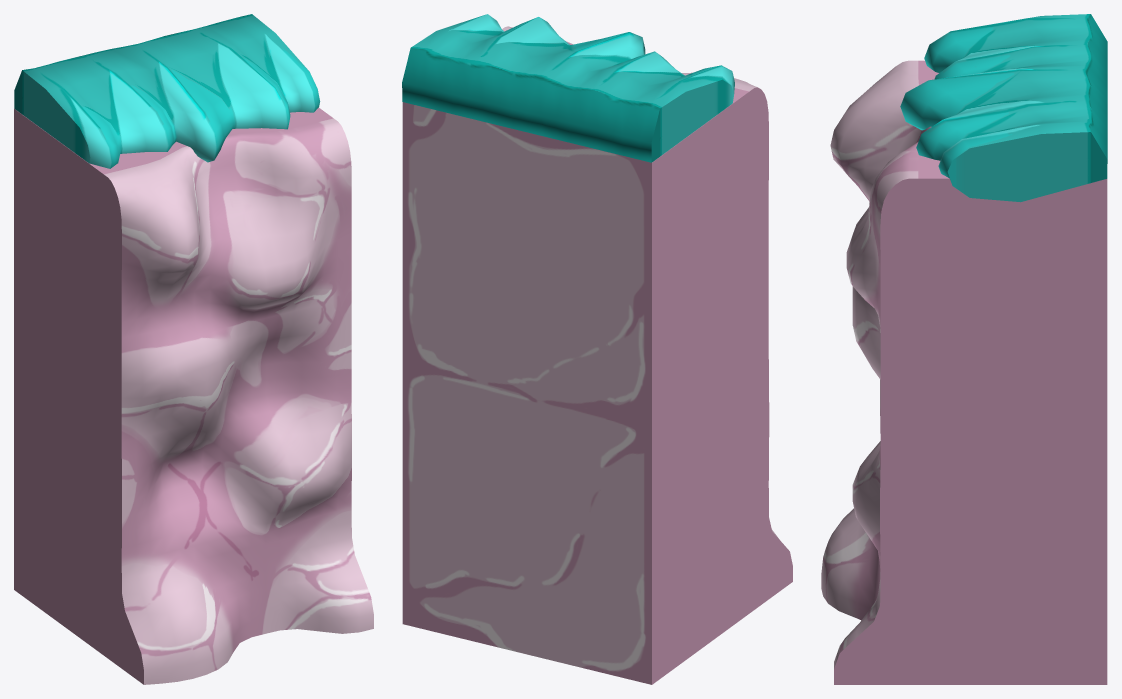
File: S1_InF_Wall(1)_001.fbx
3 renders of one model, left to right at view 1: azimuth 30°, elevation 25°; view 2: azimuth 150°, elevation 25°; view 3: azimuth 270°, elevation 25°, orthographic. The views are drawn at different scales.
Visible parts, largest first — view 1: group50_FieldAroundGlass_04; view 2: group50_FieldAroundGlass_04; view 3: group50_FieldAroundGlass_04.
Part boxes in pixels (bbox=[...]): group50_FieldAroundGlass_04: bbox=[14, 14, 373, 684]; group50_FieldAroundGlass_04: bbox=[402, 14, 792, 684]; group50_FieldAroundGlass_04: bbox=[821, 14, 1107, 684].
Size of the model in its own units: 1 by 2.19 by 1.02.
